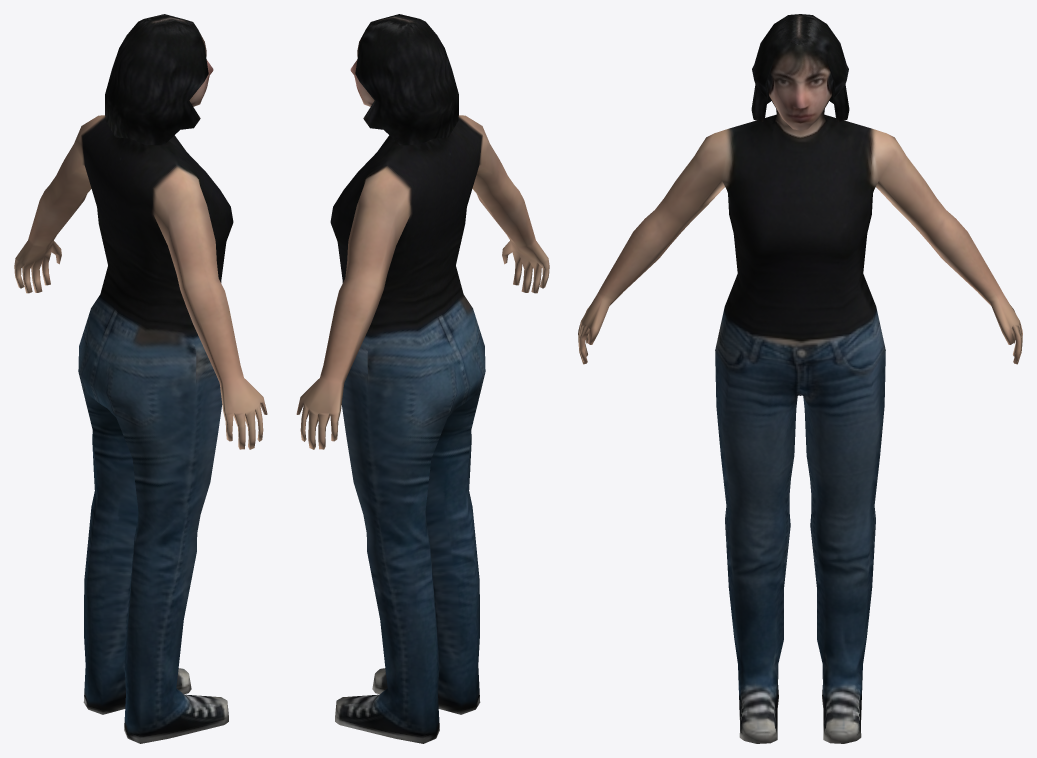
Rendered from Character_47_Female.fbx.
3 views of the same model, side by side, from view 1: azimuth 30°, elevation 25°; view 2: azimuth 150°, elevation 25°; view 3: azimuth 270°, elevation 25° (orthographic).
Visible parts, largest first — view 1: Character_47_Female; view 2: Character_47_Female; view 3: Character_47_Female.
Part boxes in pixels (x1=…): Character_47_Female: x1=14, y1=14, x2=267, y2=743; Character_47_Female: x1=296, y1=14, x2=549, y2=743; Character_47_Female: x1=578, y1=14, x2=1022, y2=743.
Bounding box in the file's own units: 0.2836 × 1.56 × 0.8951.
